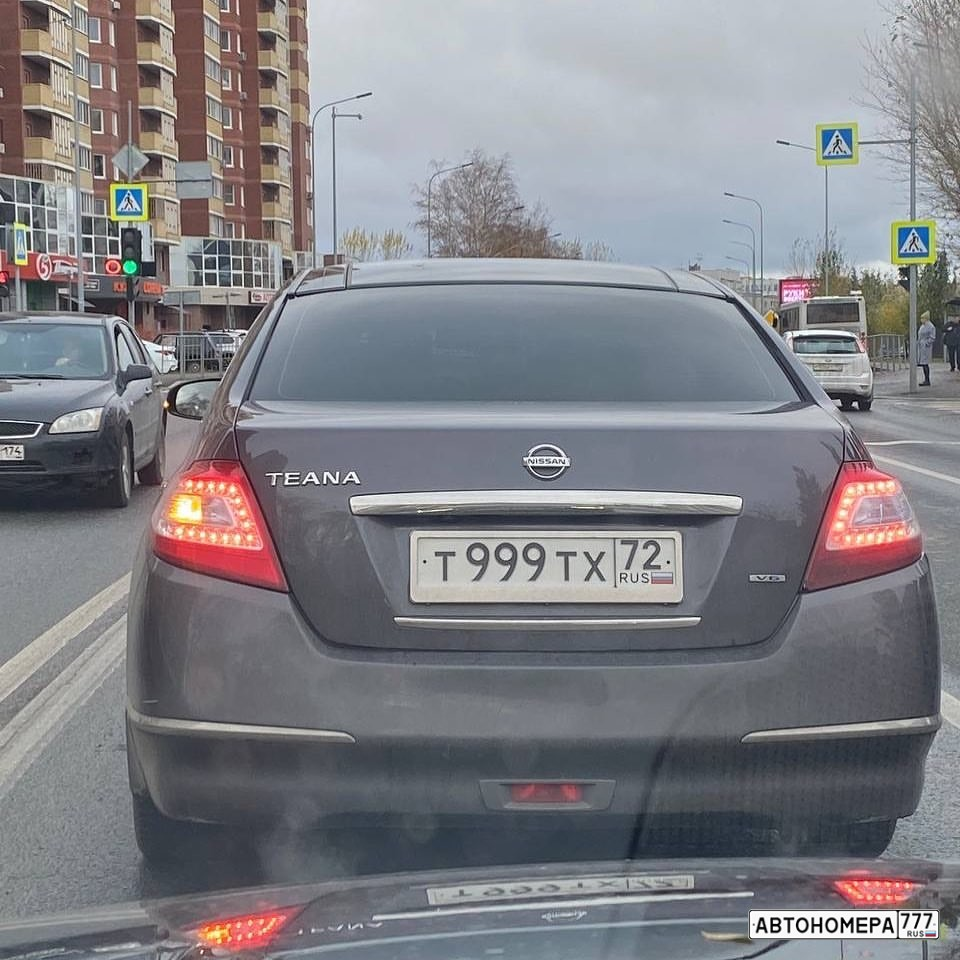number_plate: (399, 520, 695, 612)
